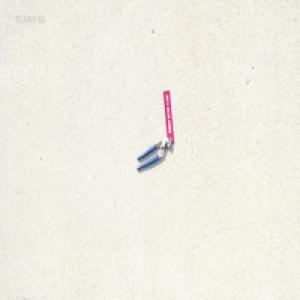Label: (162, 89, 174, 143)
Pliers: (136, 135, 171, 171)
